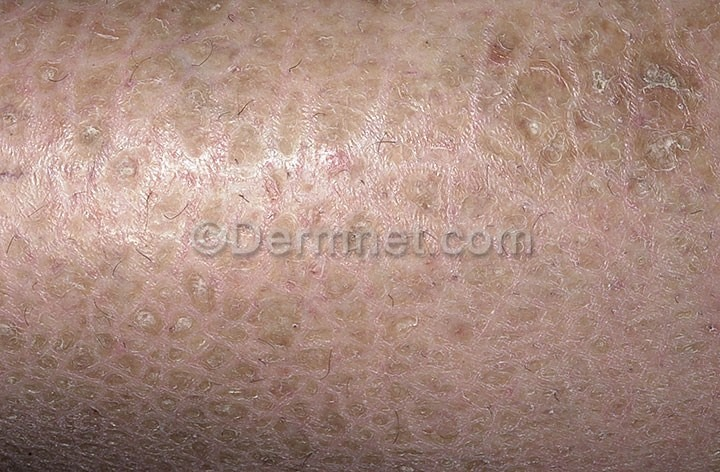Eczema: (3, 2, 720, 472)
